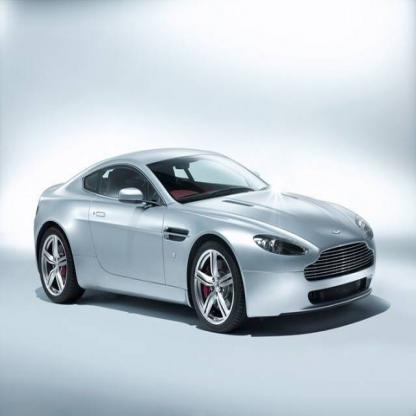Vehicle: (35, 147, 378, 337)
